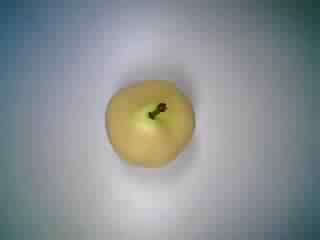pear: (94, 71, 208, 174)
